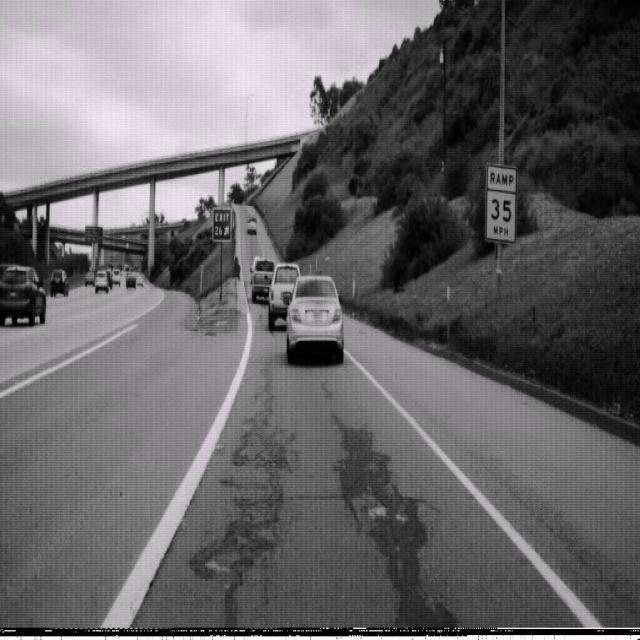speedLimit35: (484, 162, 518, 245)
